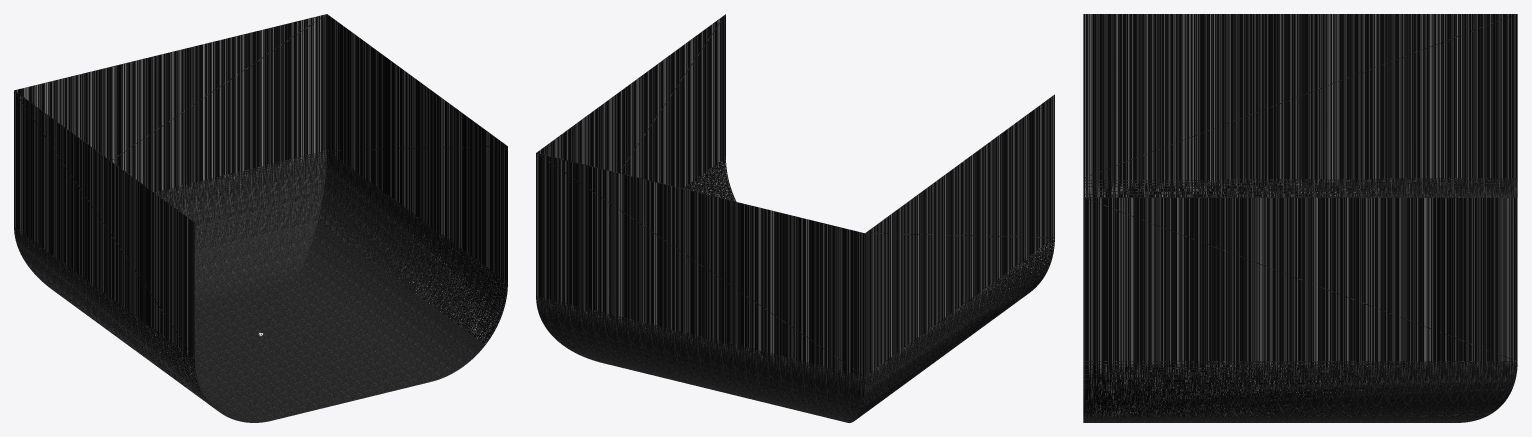
Rendered from square.glb.
3 views of the same model, side by side, from view 1: azimuth 30°, elevation 25°; view 2: azimuth 150°, elevation 25°; view 3: azimuth 270°, elevation 25° (orthographic). The views are drawn at different scales.
Parts seen in each view (by area): view 1: Plane; view 2: Plane; view 3: Plane.
Part boxes in pixels (left/top/right/bottom): Plane: left=14, top=14, right=507, bottom=422; Plane: left=536, top=14, right=1054, bottom=422; Plane: left=1083, top=14, right=1517, bottom=422.
Bounding box in the file's own units: 18.57 × 12.29 × 18.57.
Materials: 6 (1 with a texture image).
